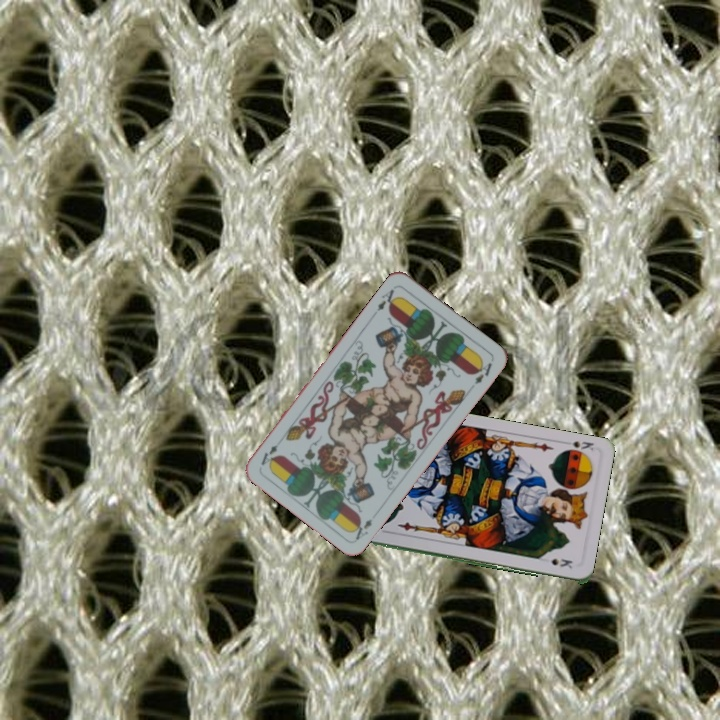EA: (373, 283, 400, 314), (348, 515, 375, 543)
SK: (559, 437, 596, 453)
